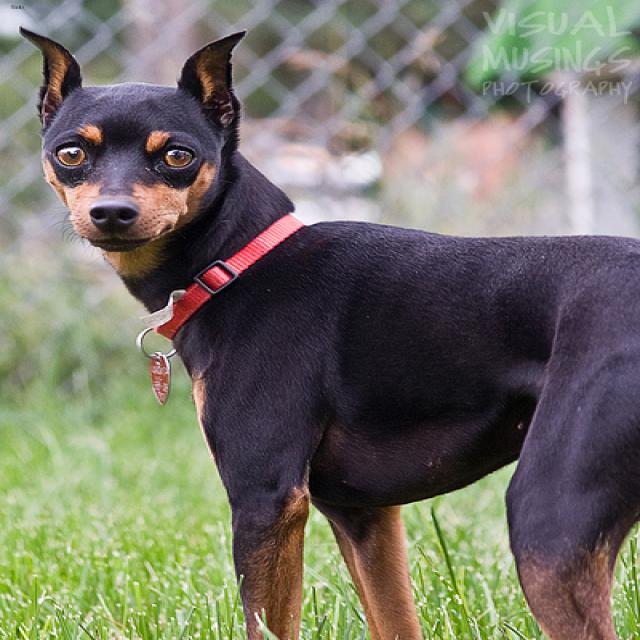dog-miniature_pinscher: (8, 18, 637, 637)
